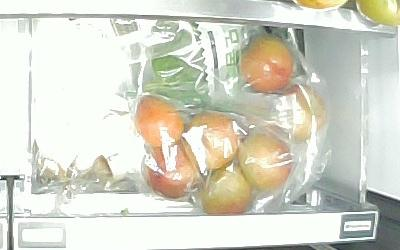prune_vinyl: (238, 131, 294, 190), (238, 36, 294, 93), (274, 85, 328, 140), (186, 115, 240, 170), (133, 92, 184, 150), (142, 144, 195, 199), (201, 164, 252, 215)
